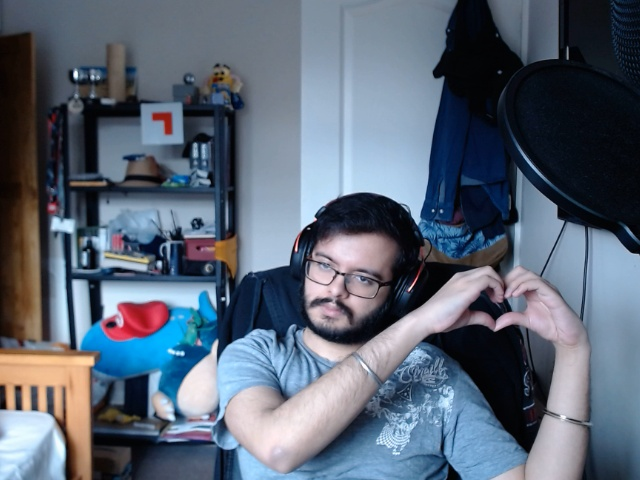Heart: (431, 250, 566, 346)
